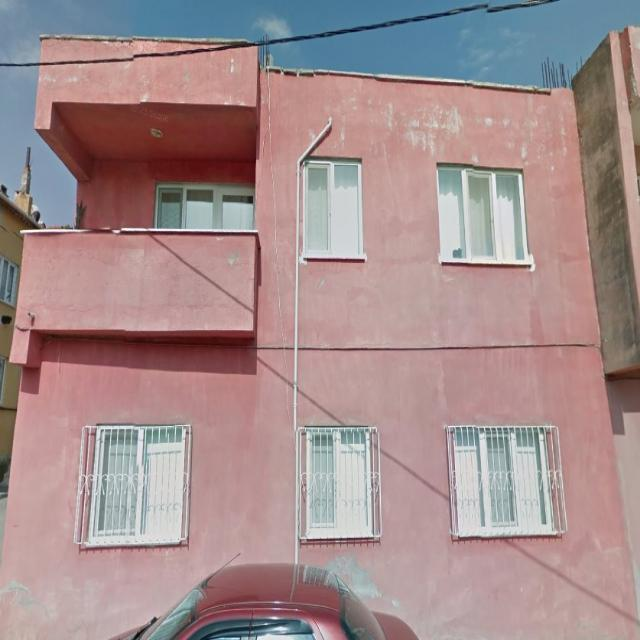Building: (0, 36, 639, 639)
